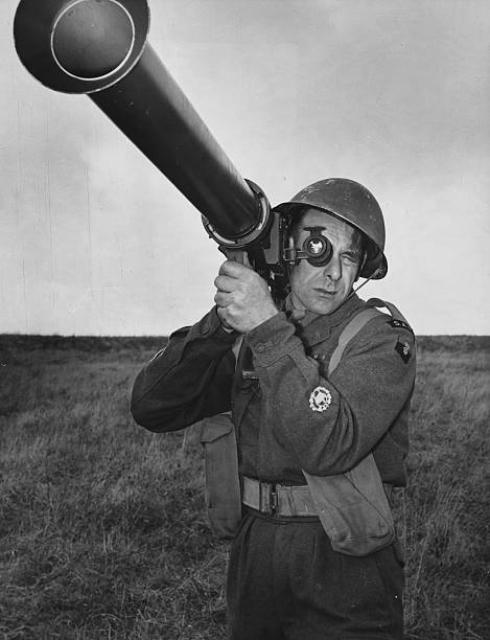other: (130, 174, 407, 634)
